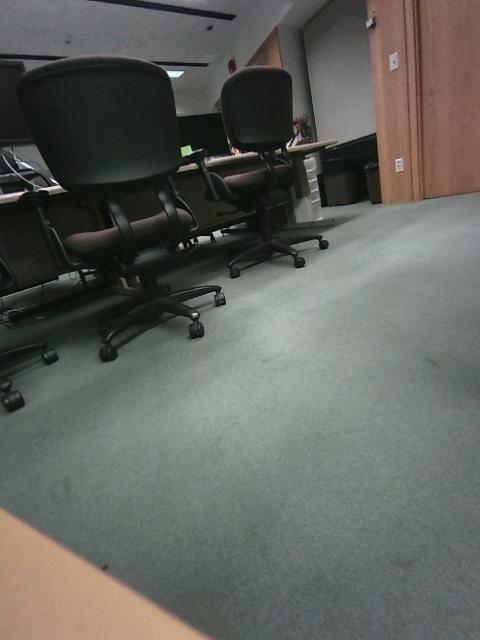block: (218, 285, 253, 314)
